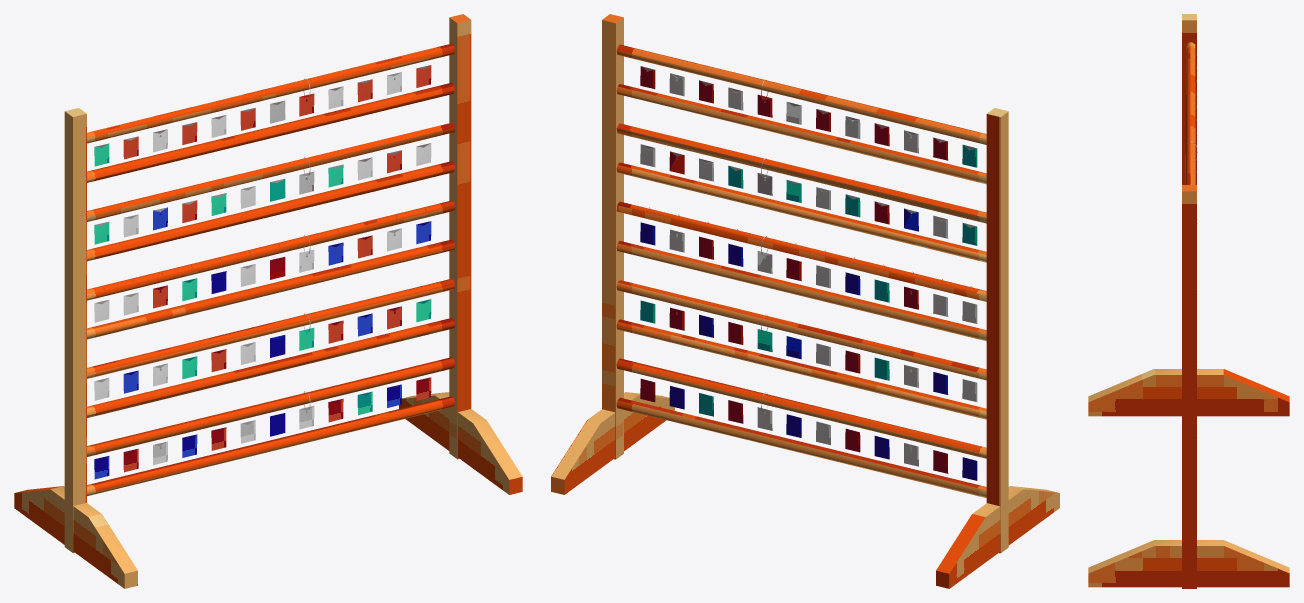
Rendered from mk_ema.glb.
3 renders of one model, left to right at view 1: azimuth 30°, elevation 25°; view 2: azimuth 150°, elevation 25°; view 3: azimuth 270°, elevation 25°, orthographic. The views are drawn at different scales.
Visible parts, largest first — view 1: mesh; view 2: mesh; view 3: mesh.
Boxes of the visible parts, left/top/right/bottom form: mesh: left=14, top=14, right=522, bottom=588; mesh: left=551, top=14, right=1059, bottom=588; mesh: left=1088, top=14, right=1289, bottom=588.
Size of the model in its own units: 0.1291 by 0.135 by 0.062.
Materials: 1 (1 with a texture image).
